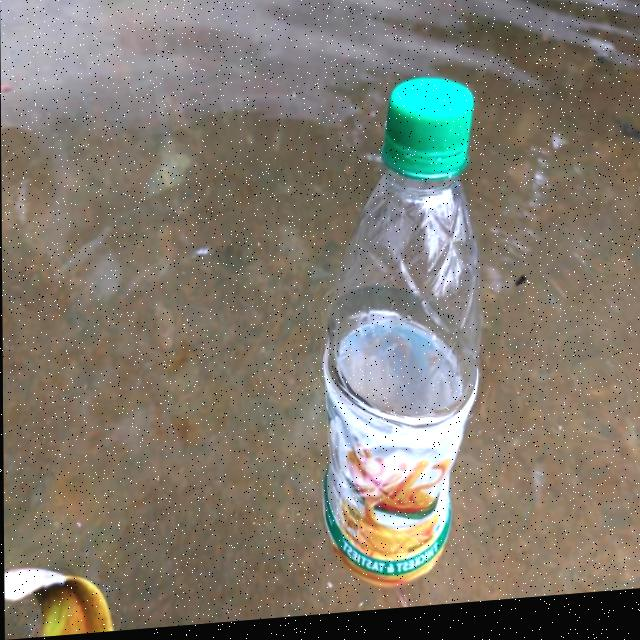leaf: (3, 534, 117, 640)
waterbottle: (296, 56, 490, 604)
